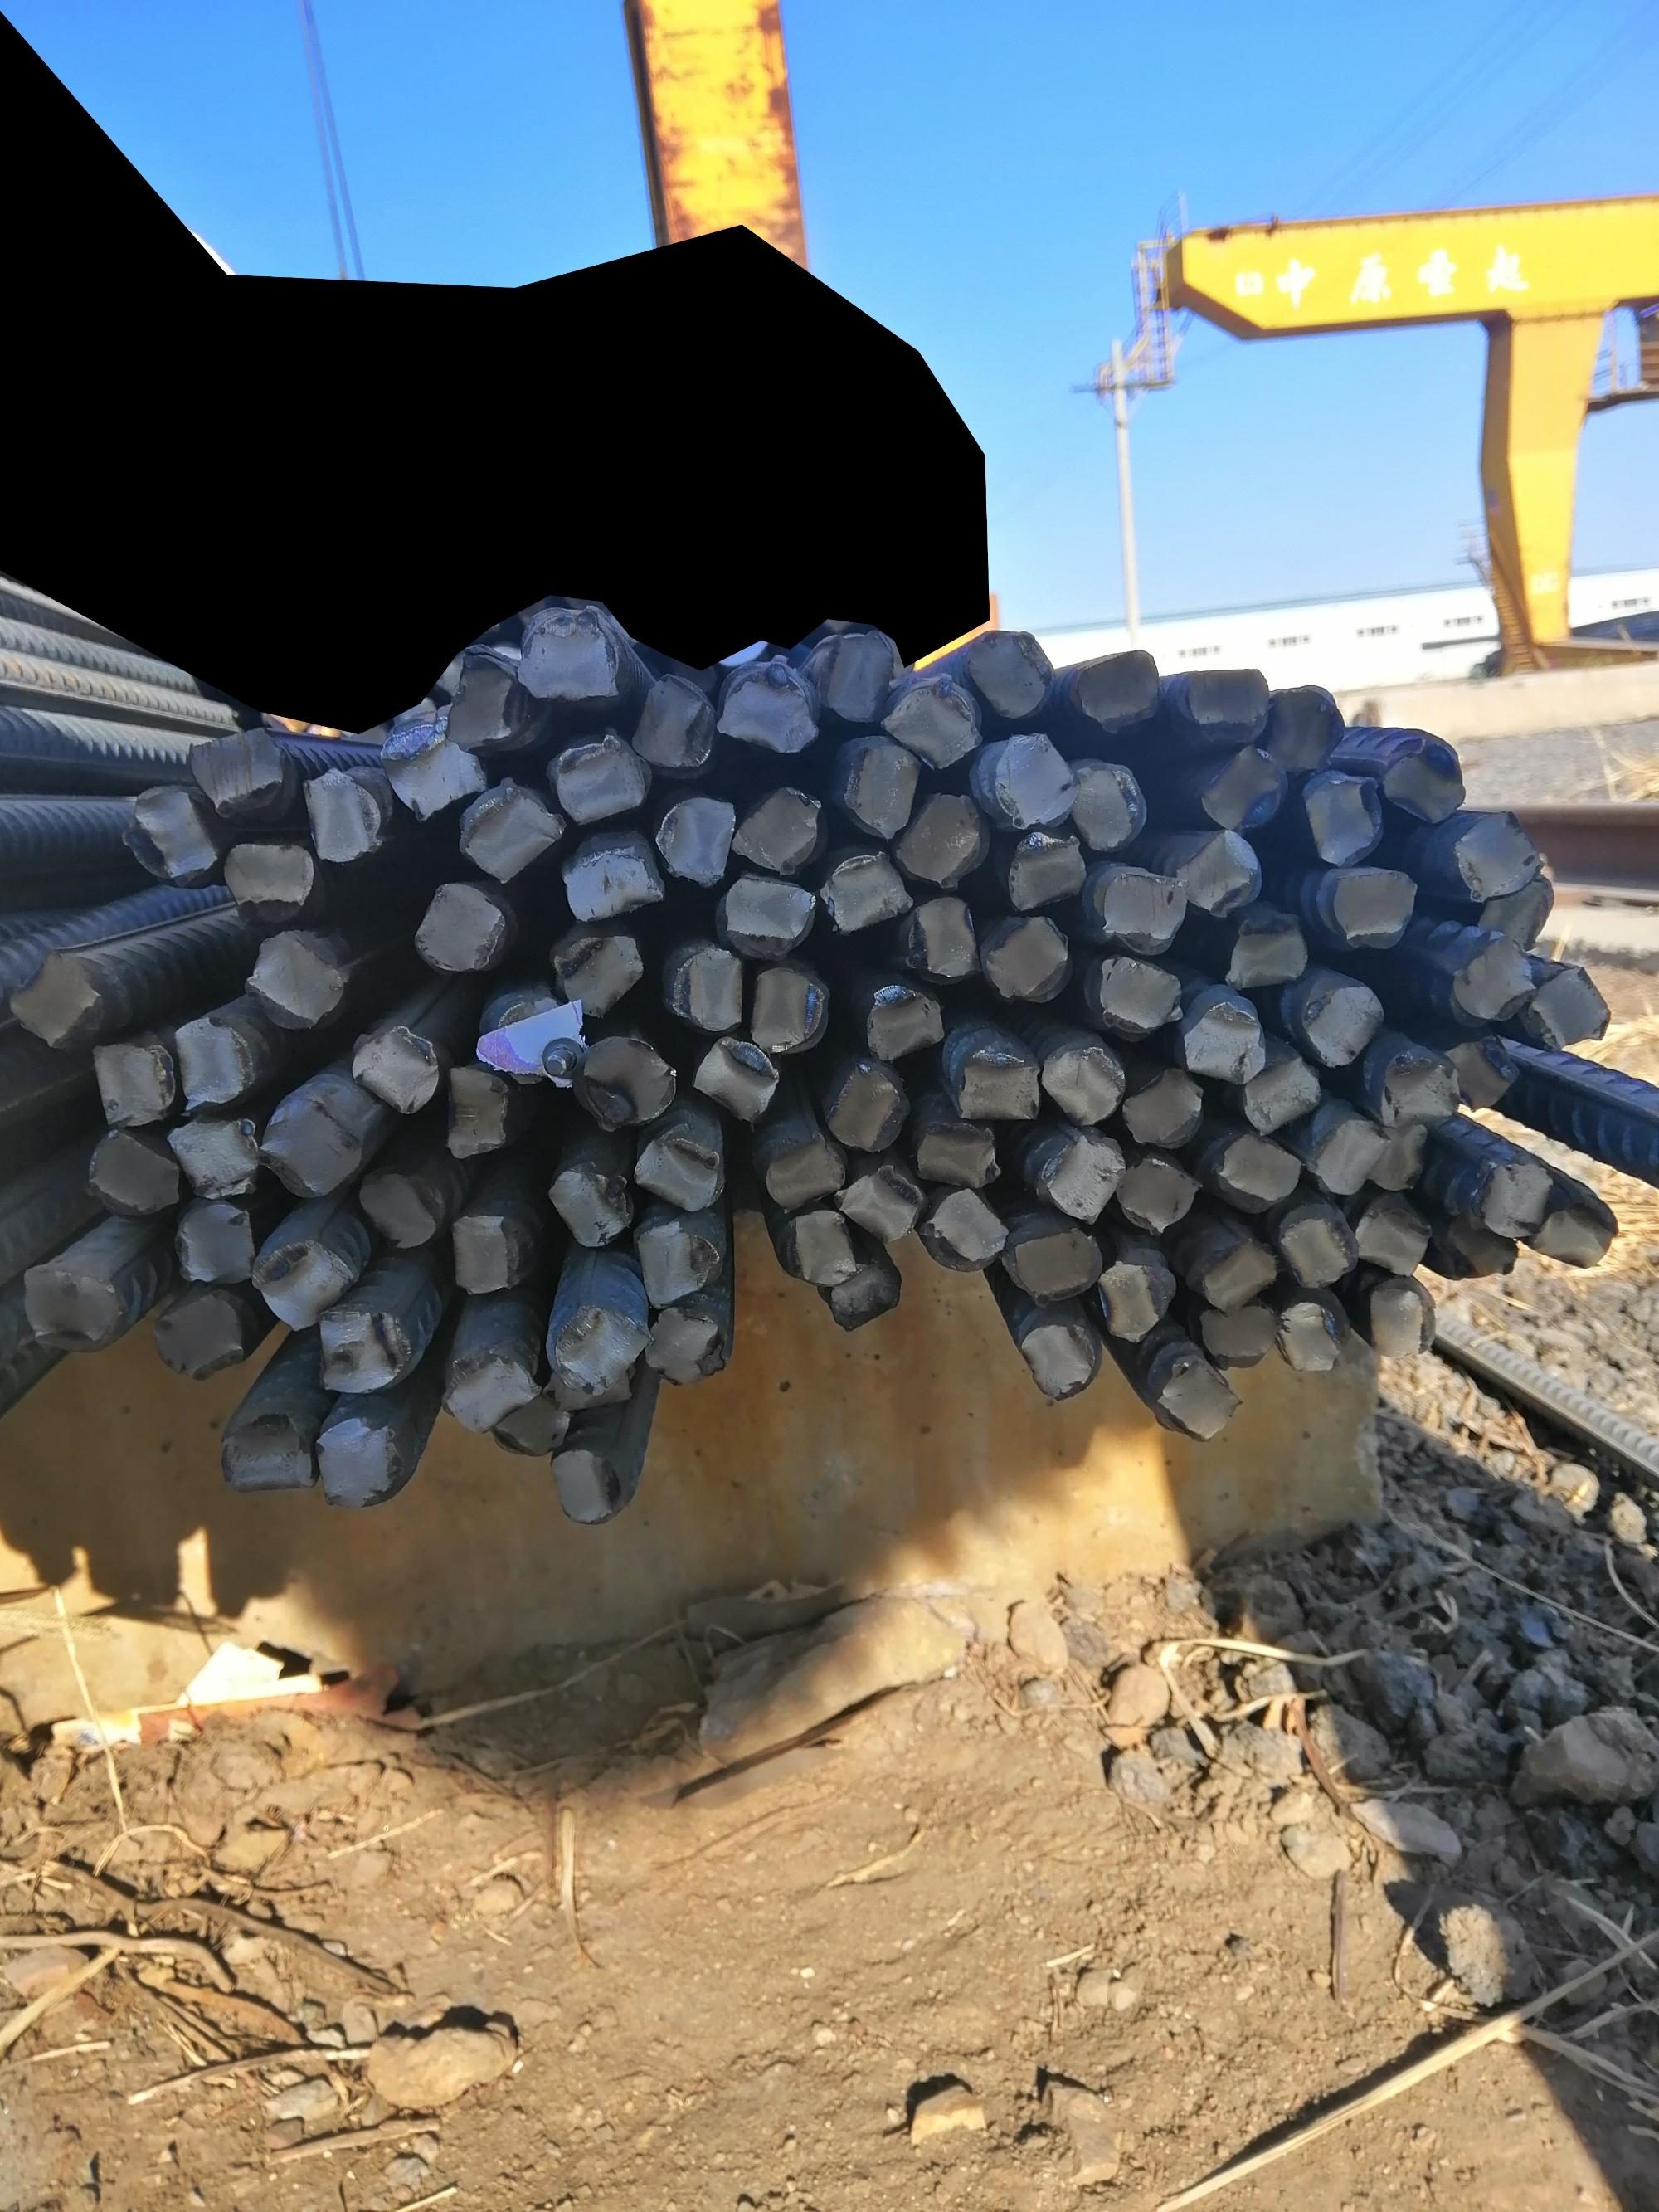bar: (258, 1089, 366, 1203), (446, 779, 561, 885), (117, 779, 218, 889), (378, 723, 486, 824), (19, 1253, 122, 1356), (247, 1236, 352, 1337), (545, 1300, 657, 1394), (242, 929, 343, 1032), (714, 657, 819, 755), (9, 947, 105, 1053), (573, 1030, 673, 1131), (308, 1412, 408, 1511), (988, 722, 1079, 830), (446, 643, 535, 753), (549, 732, 647, 831), (1439, 931, 1537, 1028), (150, 1285, 246, 1384), (185, 723, 286, 818), (218, 1405, 315, 1501), (481, 992, 575, 1089), (1452, 804, 1540, 906), (728, 779, 823, 875), (411, 879, 504, 976), (880, 675, 979, 765), (301, 763, 390, 865), (312, 1304, 408, 1396), (629, 1123, 725, 1215), (816, 844, 913, 934), (87, 1037, 183, 1128), (521, 612, 617, 702), (1300, 765, 1384, 868), (221, 831, 314, 924), (1037, 1131, 1127, 1225), (720, 868, 816, 957), (561, 844, 659, 931), (549, 929, 641, 1020), (1068, 643, 1162, 732), (349, 1021, 436, 1117), (821, 1062, 908, 1157), (627, 671, 713, 769), (744, 964, 835, 1055), (84, 1128, 176, 1217), (897, 793, 986, 885), (985, 913, 1073, 1006), (842, 736, 920, 840), (171, 1009, 256, 1103), (833, 1163, 927, 1248), (1094, 1253, 1180, 1347), (653, 791, 737, 887), (446, 1210, 535, 1299), (1201, 743, 1290, 831), (634, 1217, 721, 1307), (441, 1346, 533, 1431), (166, 1116, 258, 1201), (547, 1159, 634, 1248), (1098, 865, 1185, 953), (171, 1199, 256, 1290), (1154, 1354, 1239, 1443), (1523, 962, 1607, 1053), (967, 624, 1049, 716), (1089, 953, 1182, 1035), (1182, 994, 1263, 1086), (924, 1182, 1004, 1276), (1382, 734, 1462, 828), (1070, 755, 1145, 854), (640, 1300, 725, 1388), (690, 1035, 775, 1123), (1176, 830, 1262, 917), (1117, 1065, 1206, 1149), (357, 1168, 448, 1250), (1277, 1196, 1359, 1286), (1302, 980, 1382, 1072), (816, 628, 890, 725), (904, 889, 979, 985), (1330, 868, 1415, 952), (1262, 685, 1342, 774), (864, 980, 948, 1063), (1037, 1042, 1122, 1124), (1180, 661, 1267, 741), (760, 1137, 849, 1215), (1115, 1152, 1197, 1236), (1016, 1318, 1101, 1398), (1474, 872, 1554, 955), (1480, 1159, 1558, 1245), (1012, 1227, 1100, 1304), (1006, 830, 1086, 912), (1197, 1238, 1277, 1320), (666, 947, 744, 1030), (955, 1048, 1039, 1126), (1239, 1051, 1316, 1135), (444, 1063, 512, 1157), (1223, 915, 1310, 988), (1218, 1131, 1298, 1210), (777, 1204, 854, 1286), (913, 1119, 1000, 1191), (823, 1255, 896, 1337), (1373, 1051, 1457, 1123), (1443, 1034, 1520, 1110), (1361, 1274, 1434, 1354), (488, 1384, 572, 1454), (1351, 1198, 1424, 1276), (1532, 1199, 1608, 1272), (1310, 1114, 1378, 1196), (549, 1447, 617, 1525), (1438, 1218, 1521, 1281), (544, 1361, 634, 1415), (1199, 1299, 1269, 1368), (1276, 1297, 1337, 1374), (1366, 1119, 1424, 1187)
